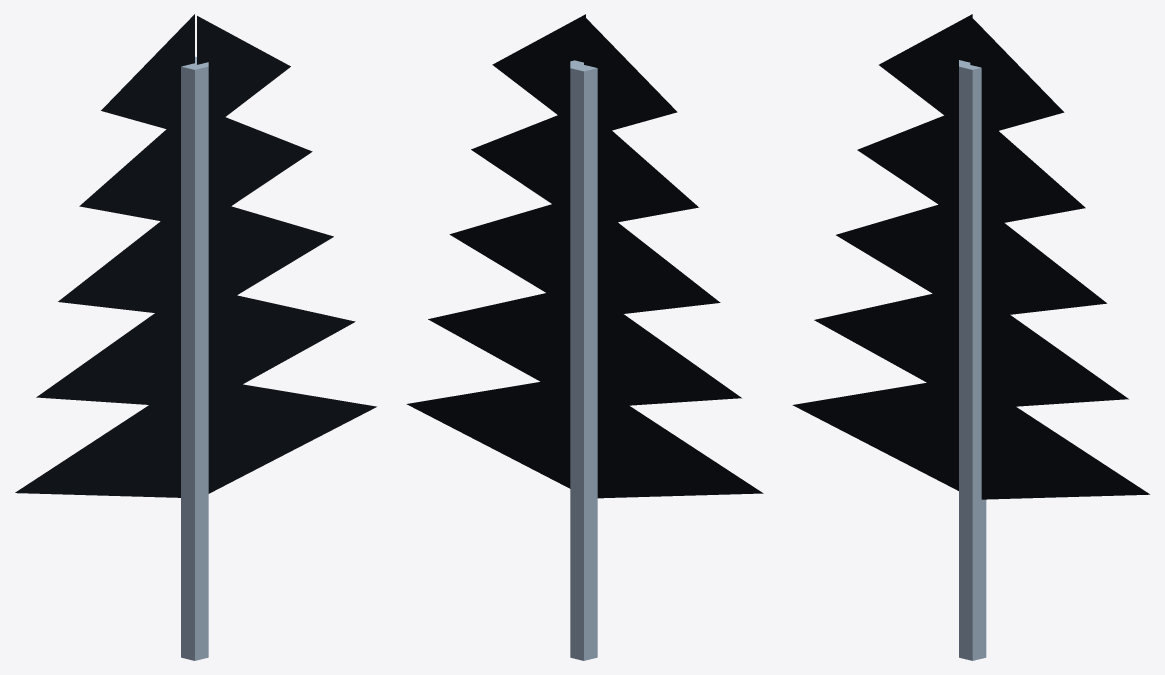
File: raven_feather.obj
3 views of the same model, side by side, from view 1: azimuth 30°, elevation 25°; view 2: azimuth 150°, elevation 25°; view 3: azimuth 330°, elevation 25° (orthographic).
Parts seen in each view (by area): view 1: models/items/raven_feather.obj; view 2: models/items/raven_feather.obj; view 3: models/items/raven_feather.obj.
Part boxes in pixels (bbox=[...]): models/items/raven_feather.obj: bbox=[15, 14, 376, 660]; models/items/raven_feather.obj: bbox=[406, 14, 763, 660]; models/items/raven_feather.obj: bbox=[792, 14, 1149, 660].
Bounding box in the file's own units: 0.92 × 1.56 × 0.0606.
